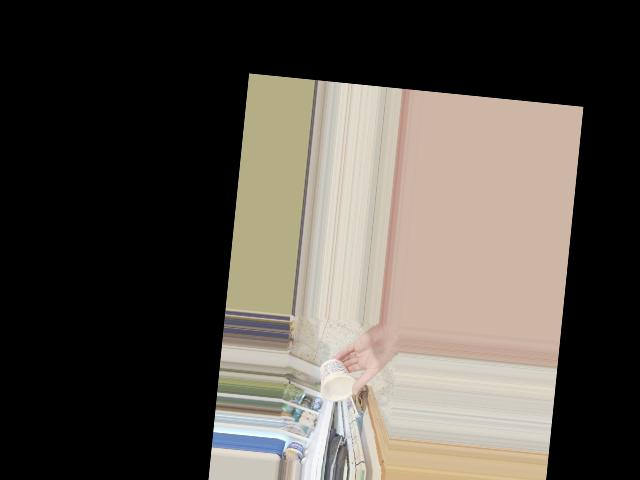cotage: (320, 358, 356, 403)
